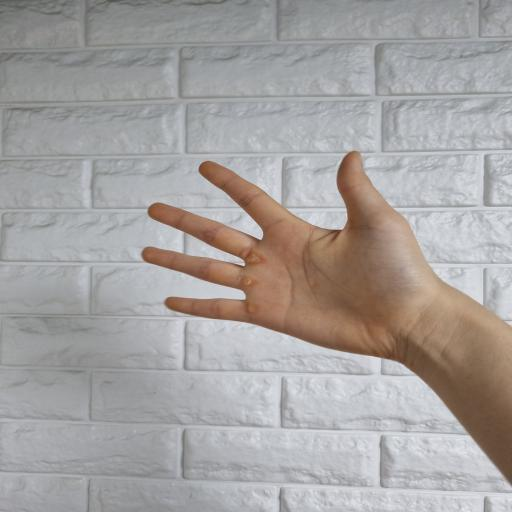Paper: (137, 149, 472, 378)
